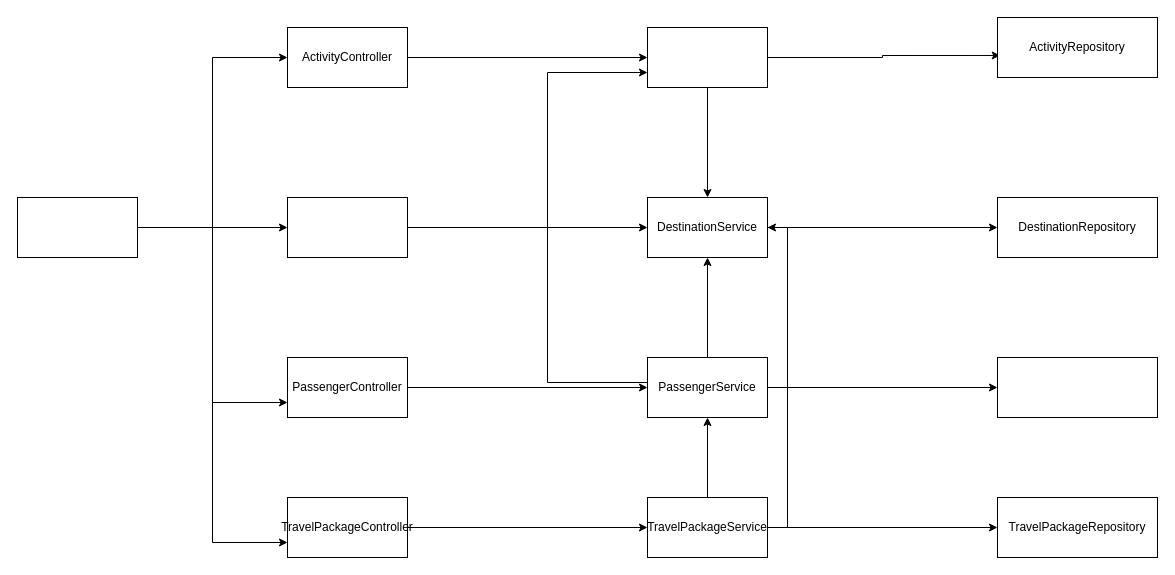
The diagram is 1175 pixels wide and 575 high, and some of its shapes have lost their labels. The shapes that lost their labels are listed below. From the top down, each one's centre as x and y in pixels, then its label:
At [707,57]: "ActivityService".
At [77,227]: "Client".
At [347,227]: "DestinationController".
At [1077,387]: "PassengerRepository".
